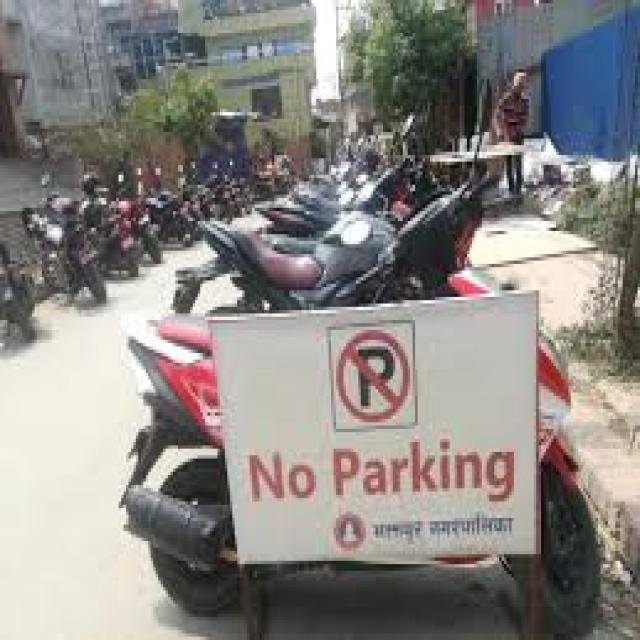No Parking: (155, 85, 551, 609)
